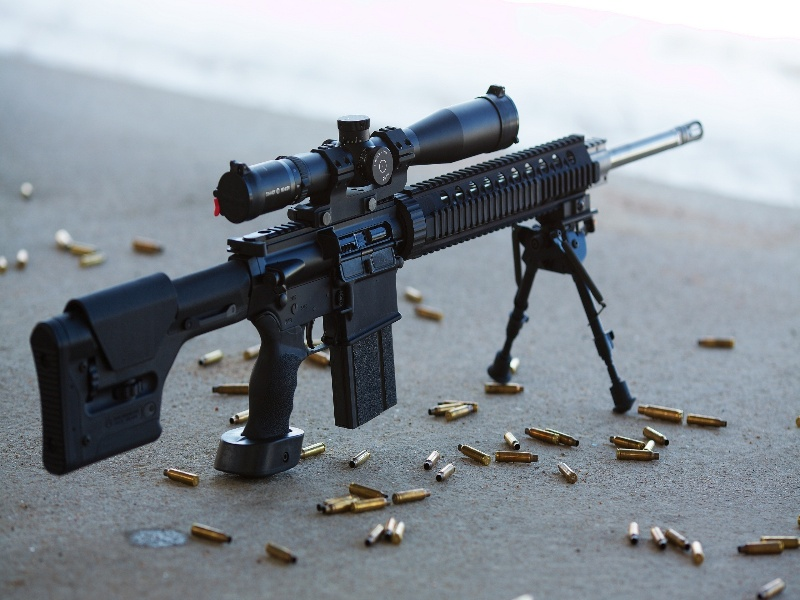weapon: (30, 85, 704, 477)
